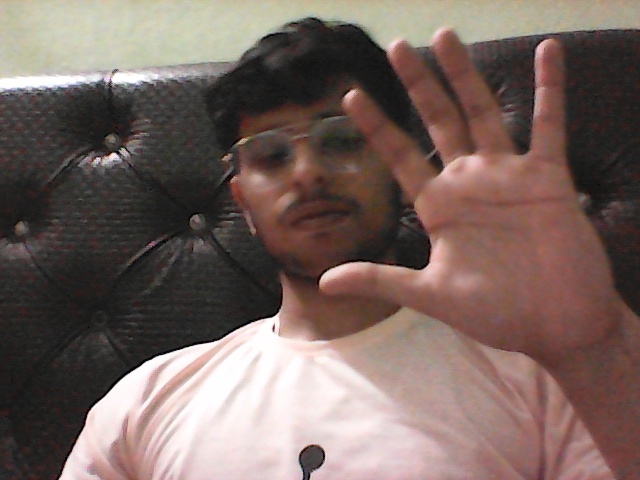hello: (306, 26, 640, 408)
